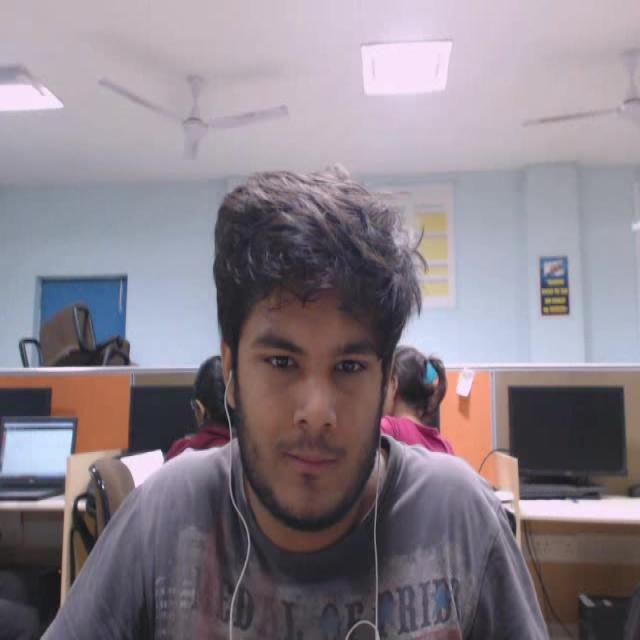Engaged: (204, 150, 441, 546)
